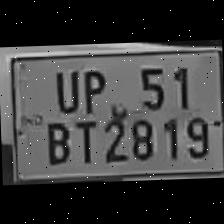1: (166, 62, 192, 109), (156, 113, 180, 162)
2: (98, 107, 128, 164)
5: (132, 62, 166, 109)
8: (126, 110, 156, 162)
9: (180, 111, 210, 158)
B: (40, 116, 72, 166)
P: (76, 63, 108, 112)
T: (70, 116, 98, 164)
U: (48, 64, 80, 114)
